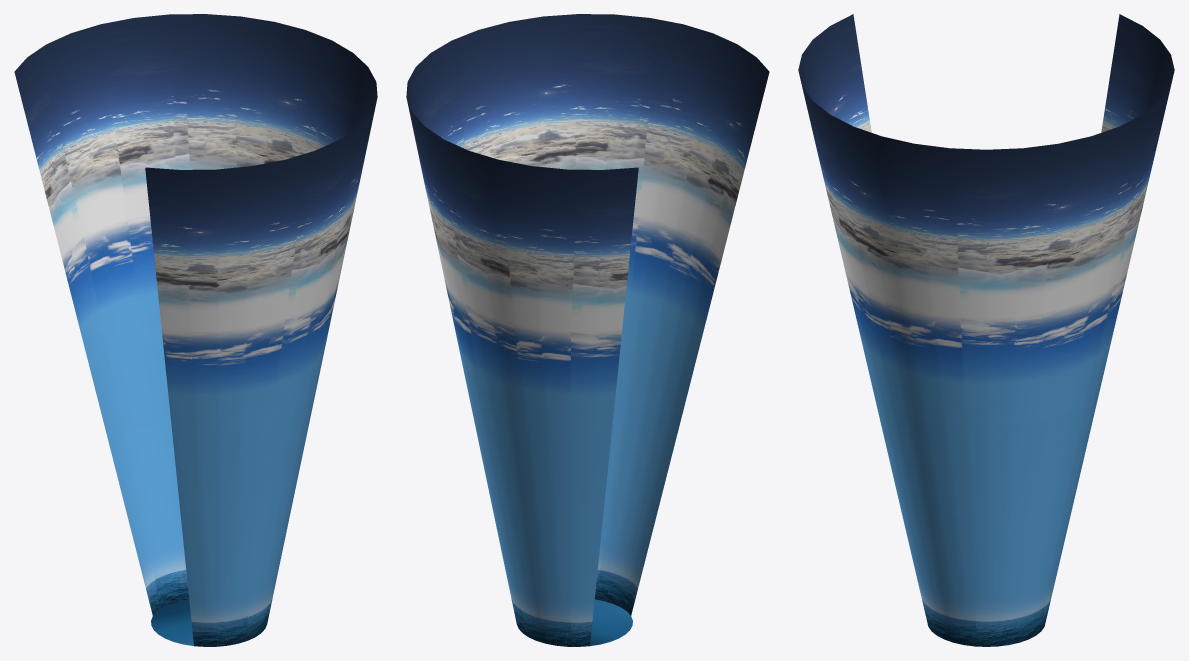
Rendered from BG_Sky2.fbx.
The picture shows the model from 3 angles, left to right: view 1: azimuth 30°, elevation 25°; view 2: azimuth 150°, elevation 25°; view 3: azimuth 270°, elevation 25°; orthographic projection.
Visible parts, largest first — view 1: BG_Cylinder; view 2: BG_Cylinder; view 3: BG_Cylinder.
Part boxes in pixels (x1,y1,x2,y2): BG_Cylinder: [14, 14, 377, 646]; BG_Cylinder: [406, 14, 769, 646]; BG_Cylinder: [798, 14, 1174, 646].
Size of the model in its own units: 44985 by 52703 by 84004.
Materials: 1 (1 with a texture image).
